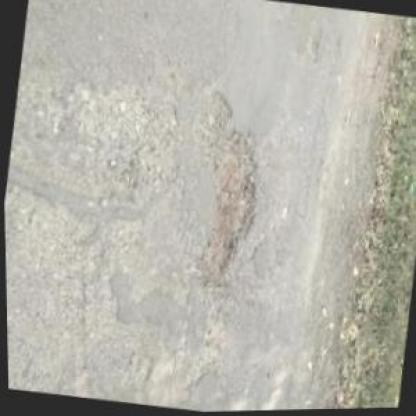pothole: (175, 86, 276, 294)
